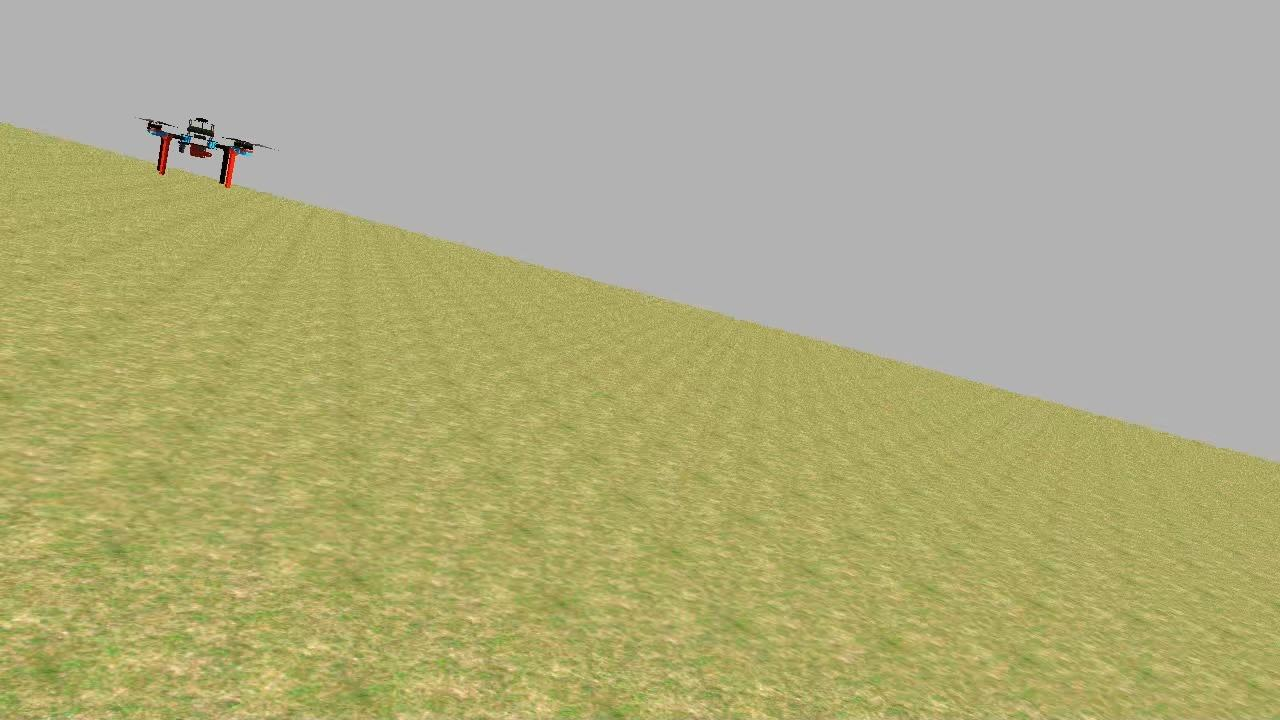UAV: (130, 108, 270, 194)
